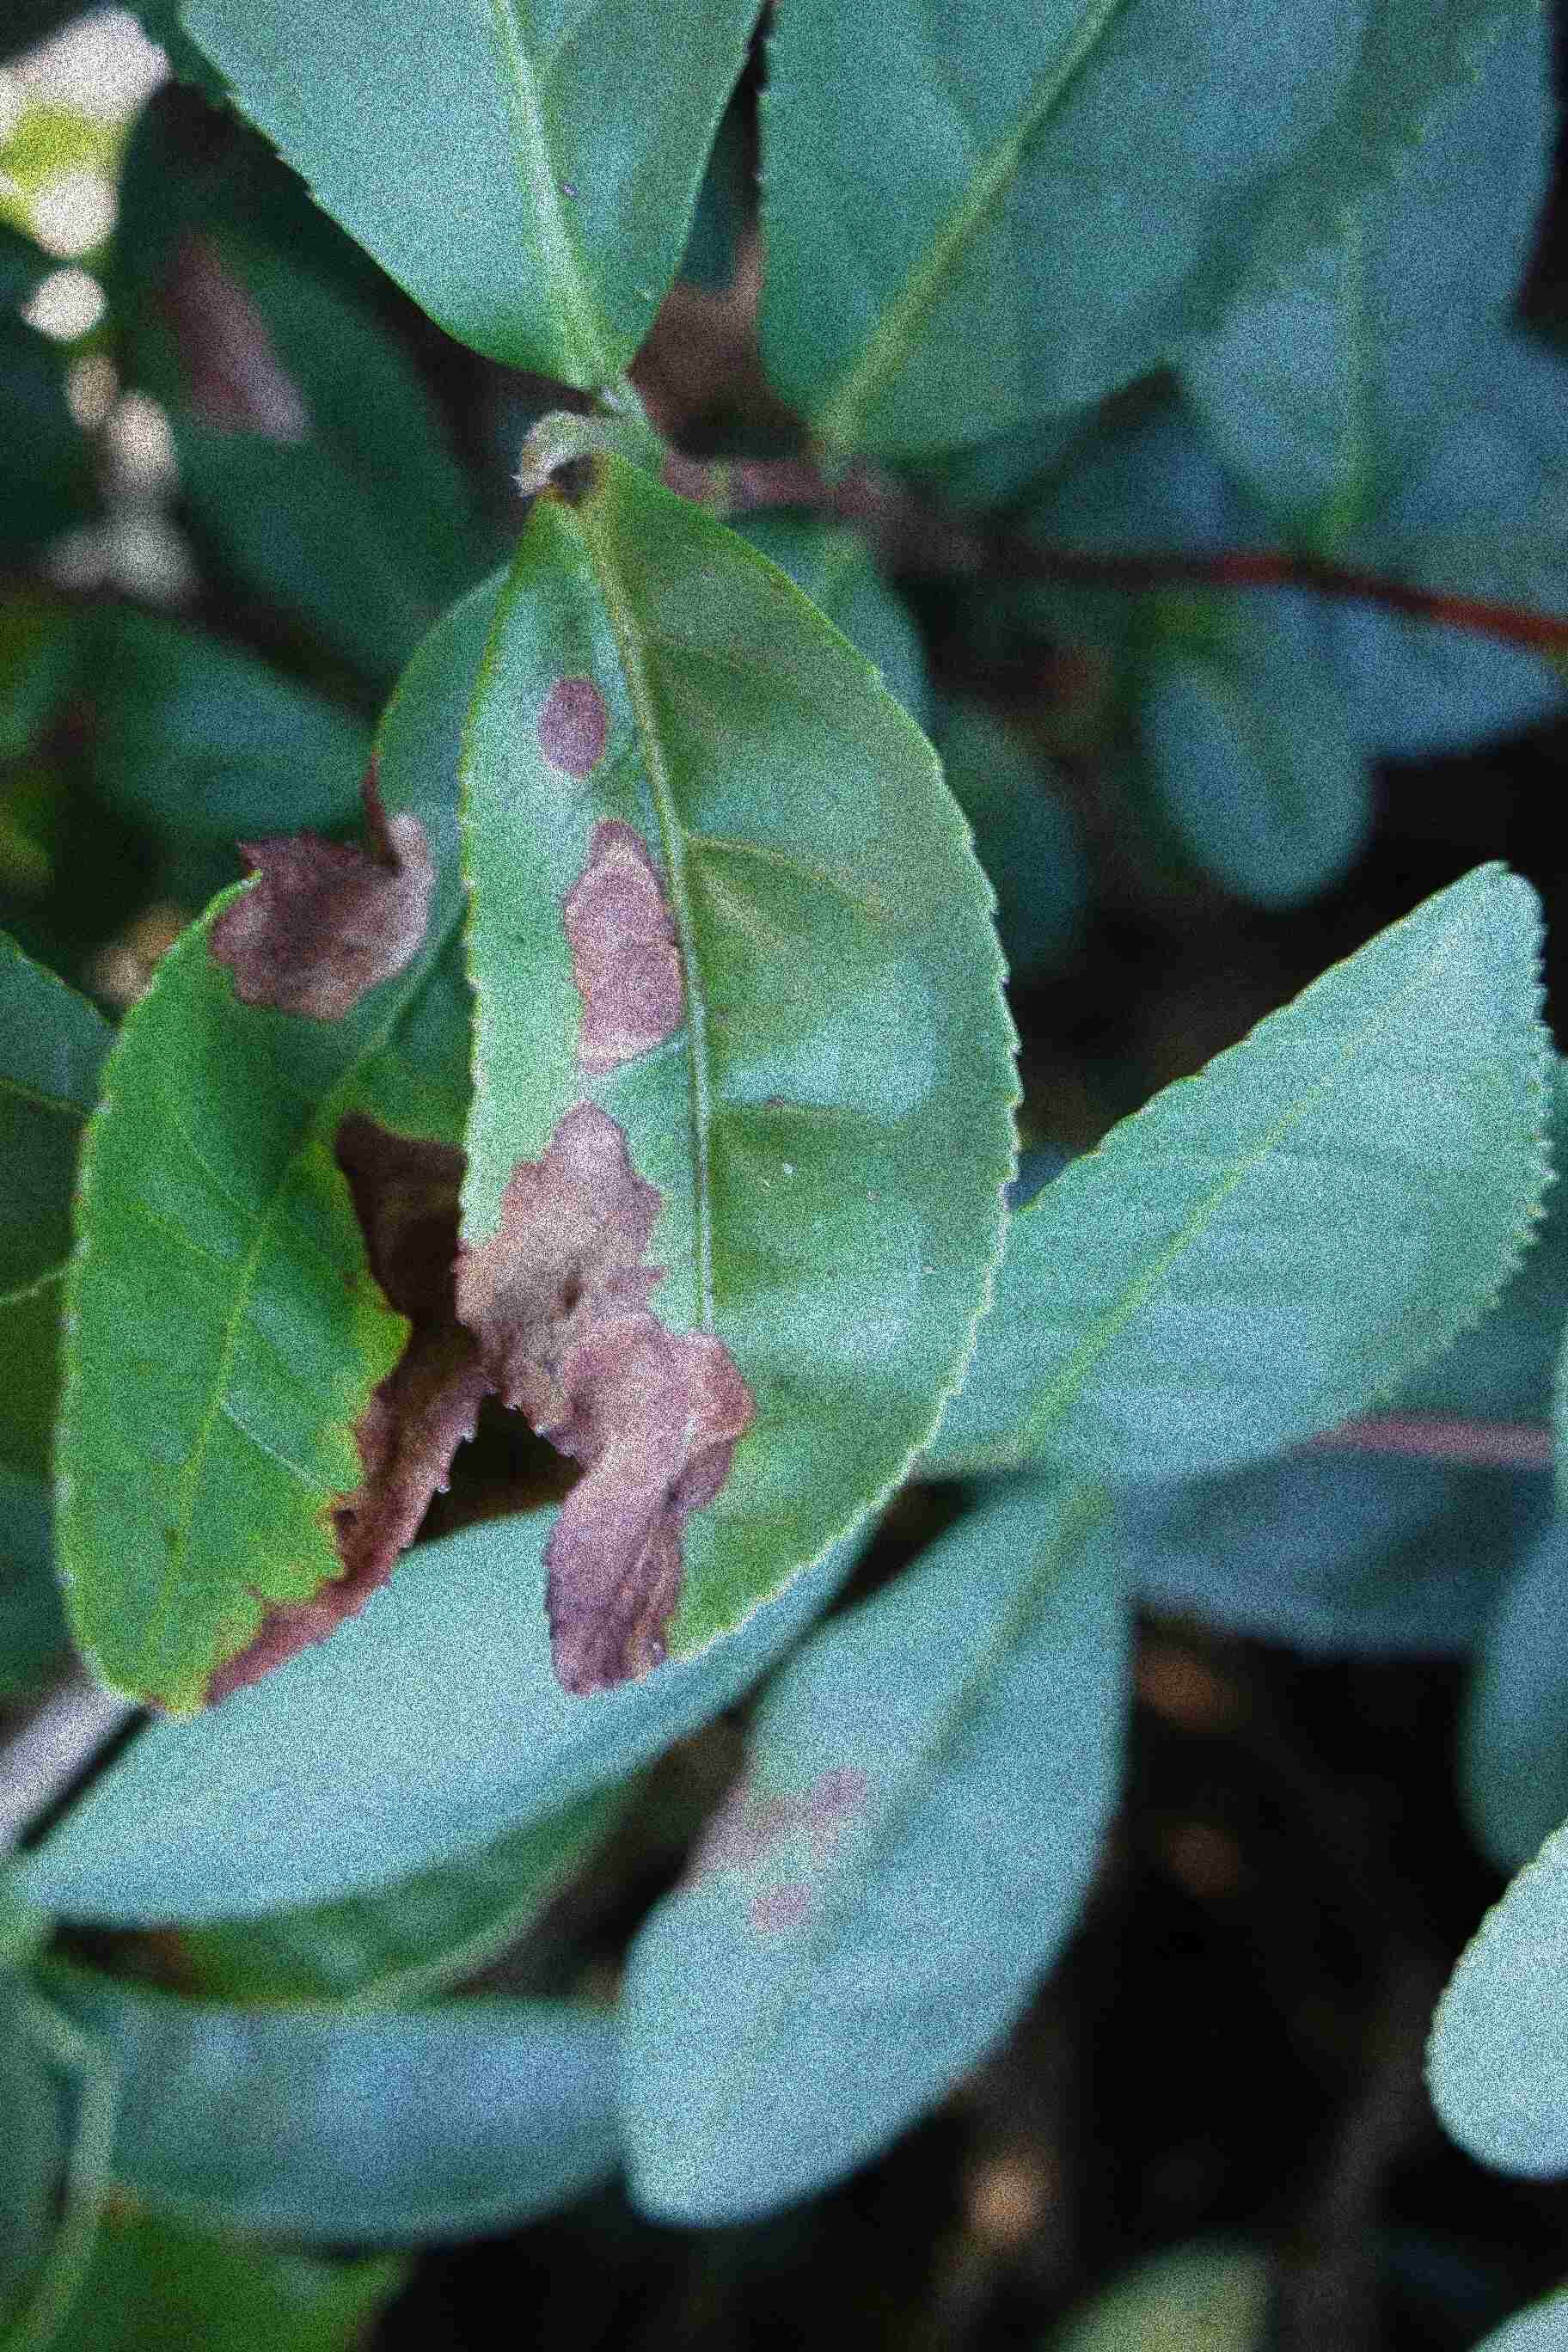tanju_high: (457, 439, 1034, 1699), (614, 1496, 1137, 2235), (51, 822, 479, 1722)
